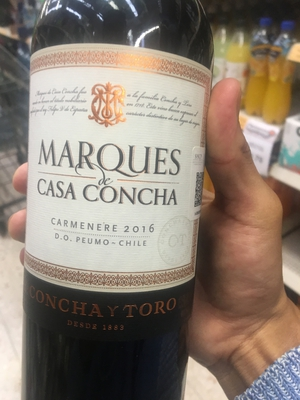marques de casa concha carmenere: (18, 14, 211, 400)
